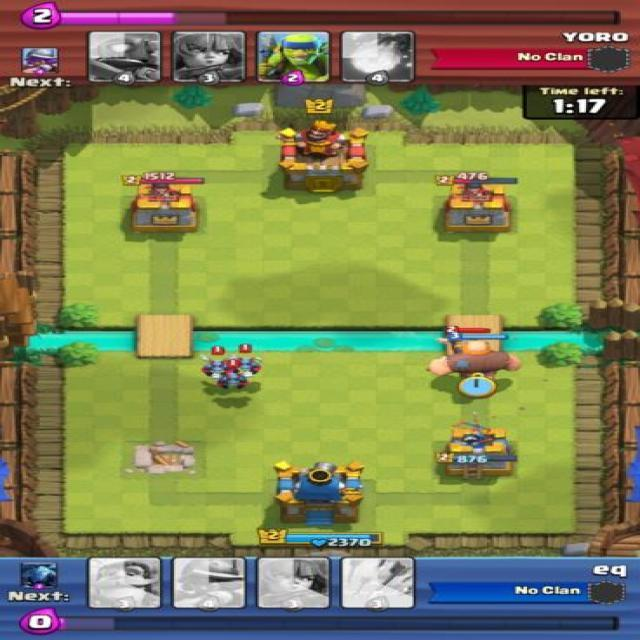EKingTower: (279, 121, 368, 191)
EnemyPrincessTower: (446, 179, 516, 231), (131, 180, 197, 232)
OGiant: (428, 340, 520, 397)
OwnKingTower: (274, 462, 362, 525)
OwnPrincessTower: (437, 422, 516, 477)
TowerDown: (126, 441, 194, 473)
eminion: (229, 344, 261, 376), (201, 347, 230, 380), (218, 369, 249, 389)
